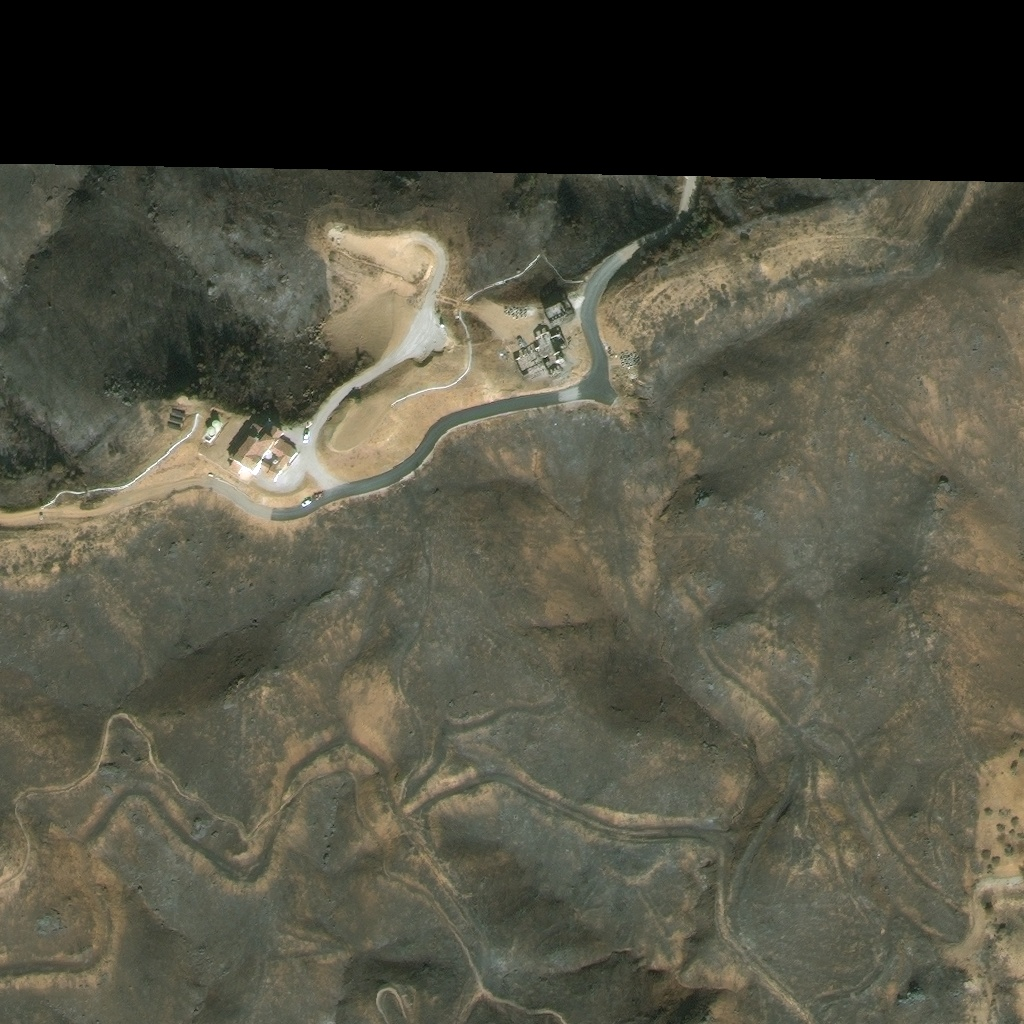0 no-damage: (227, 420, 298, 484), (204, 419, 220, 437)
3 destroyed: (512, 330, 564, 379), (540, 296, 575, 326), (498, 351, 504, 357)
